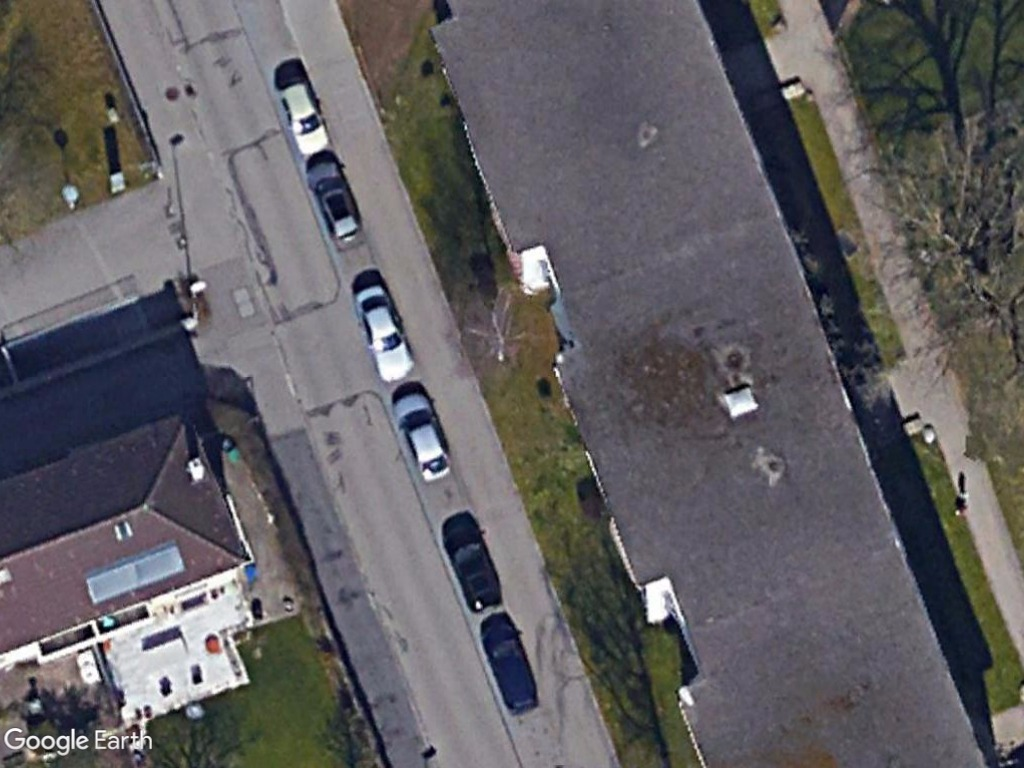car: (351, 281, 416, 386), (442, 522, 503, 613), (394, 387, 453, 481), (273, 75, 333, 155), (309, 154, 364, 239)
